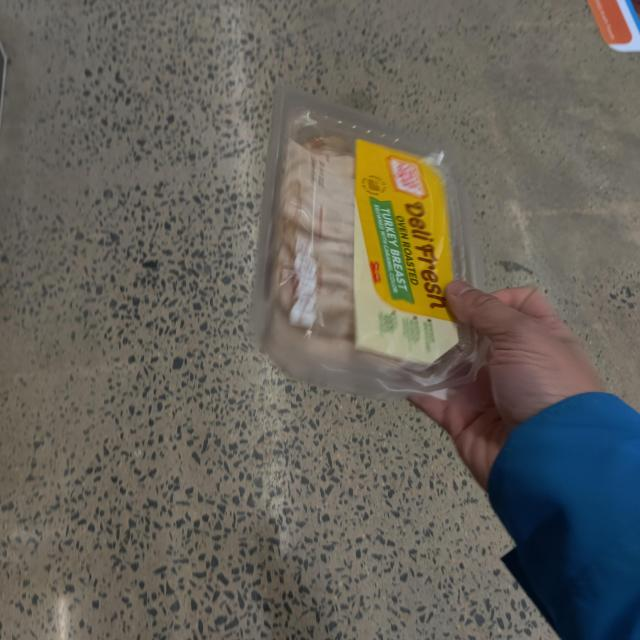Meat: (259, 70, 486, 412)
